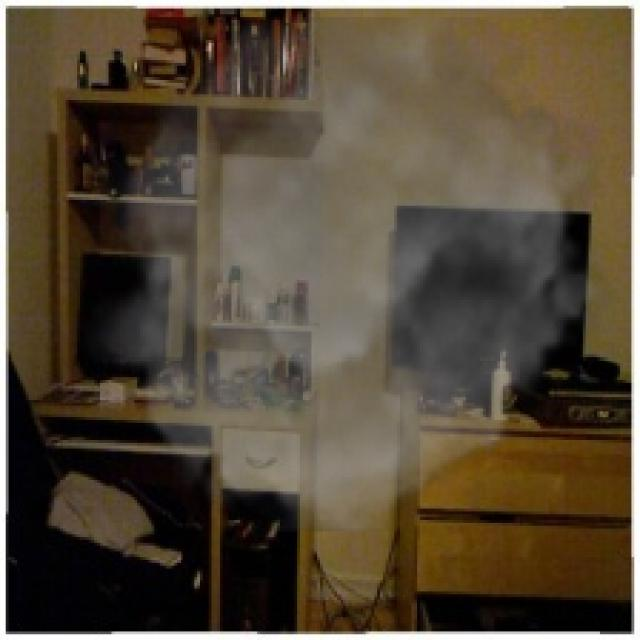smoke: (80, 17, 620, 532)
